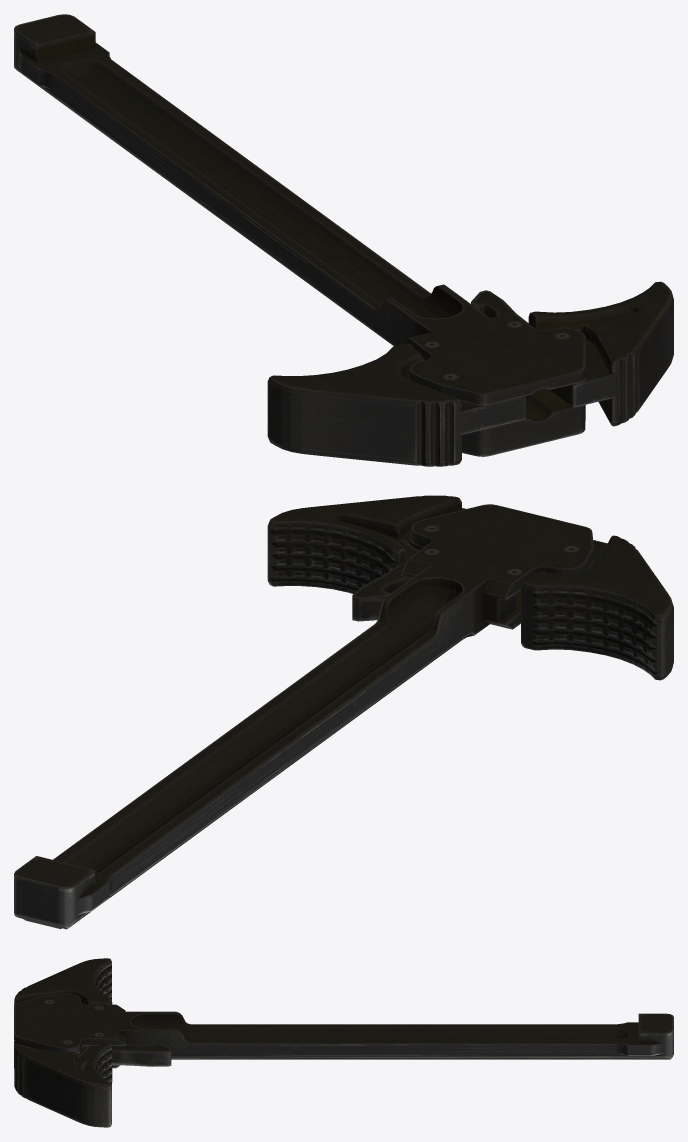
3 renders of one model, top to bottom at view 1: azimuth 30°, elevation 25°; view 2: azimuth 150°, elevation 25°; view 3: azimuth 270°, elevation 25°, orthographic. The views are drawn at different scales.
Parts seen in each view (by area): view 1: TW_5c5db6b32e221600102611a0_PZ_Import; view 2: TW_5c5db6b32e221600102611a0_PZ_Import; view 3: TW_5c5db6b32e221600102611a0_PZ_Import.
Boxes of the visible parts, x1,y1,x2,y2 form: TW_5c5db6b32e221600102611a0_PZ_Import: (14, 14, 673, 466); TW_5c5db6b32e221600102611a0_PZ_Import: (14, 495, 673, 929); TW_5c5db6b32e221600102611a0_PZ_Import: (14, 958, 673, 1127).
Bounding box in the file's own units: 0.041 × 0.0894 × 0.00787.
1 material, 1 textured.
